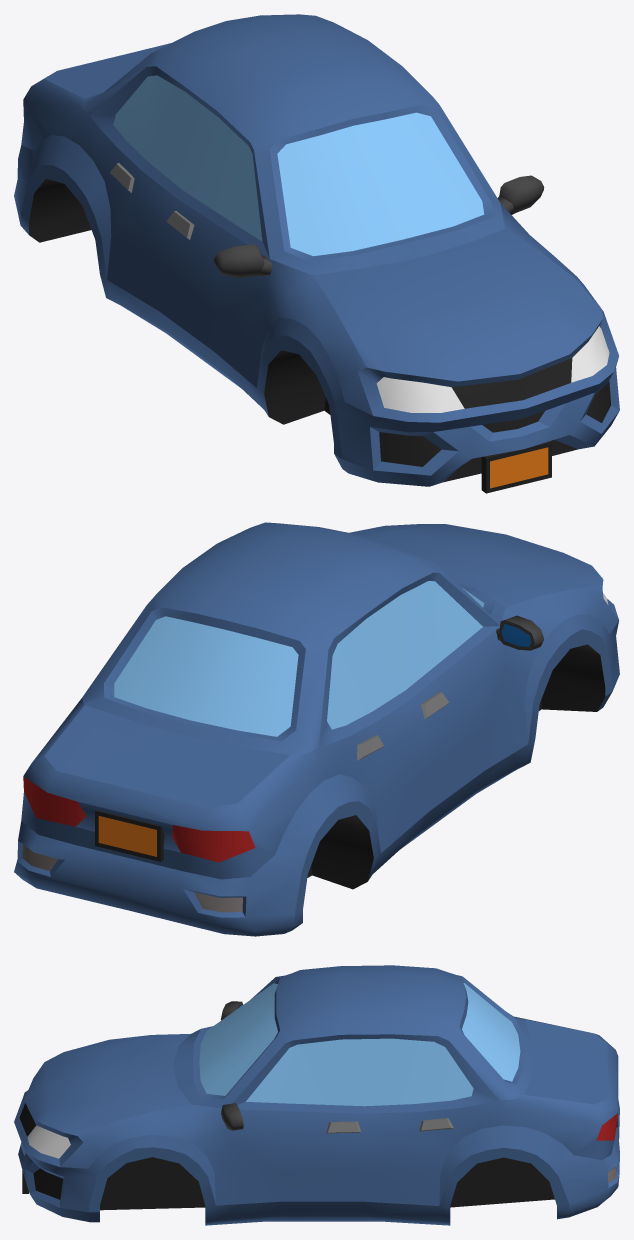
File: car_002.fbx
3 views of the same model, one above another, from view 1: azimuth 30°, elevation 25°; view 2: azimuth 150°, elevation 25°; view 3: azimuth 270°, elevation 25° (orthographic). The views are drawn at different scales.
Parts seen in each view (by area): view 1: car_002; view 2: car_002; view 3: car_002.
Part boxes in pixels (x1,y1,x2,y2): car_002: (14,14,619,493); car_002: (14,522,619,936); car_002: (14,965,619,1225).
Bounding box in the file's own units: 243 × 189 × 519.
